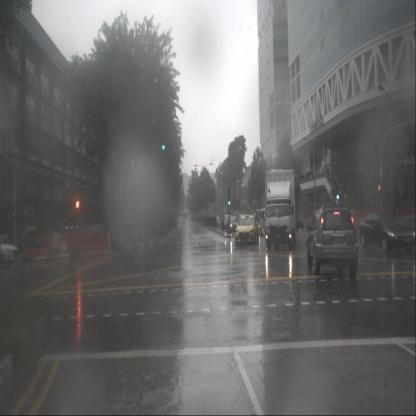barrier: (65, 230, 81, 251), (52, 231, 67, 252), (38, 236, 53, 252), (93, 233, 108, 249), (80, 231, 92, 249), (107, 231, 111, 249)
